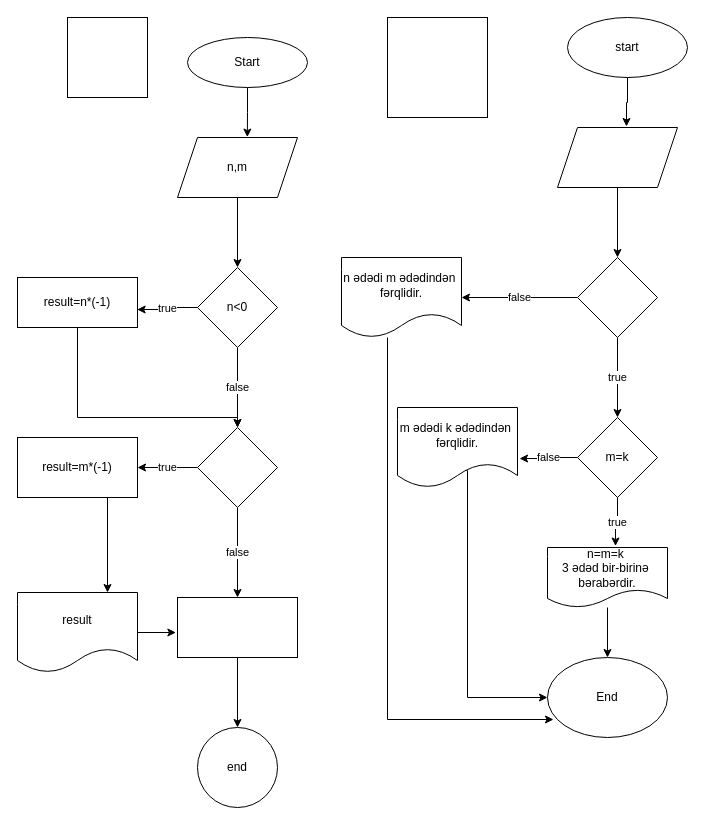
Some shapes in this 705 by 825 pixel diagram are drawn without their labels. The shapes that lost their labels are listed below. From the top down, each one's centre as x and y in pixels, then its label:
(107,57): Verilmiş iki ədəddin modulları cəmini tapın.
(437,67): Verilmiş 3 ədədin bir-birinə bərabər olup-olmadığını tapan program
(617,157): n,m,k
(617,297): n=m
(237,467): m<0
(237,627): result=n+m
